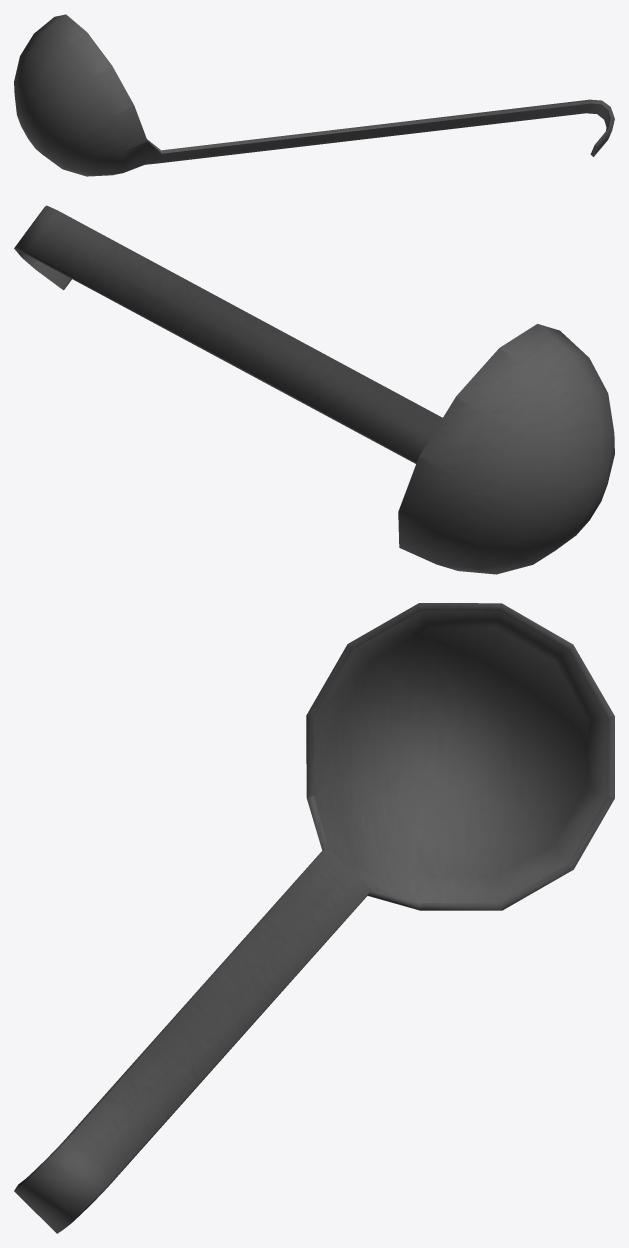
File: ladle.obj
3 views of the same model, one above another, from view 1: azimuth 30°, elevation 25°; view 2: azimuth 150°, elevation 25°; view 3: azimuth 270°, elevation 25° (orthographic). The views are drawn at different scales.
Visible parts, largest first — view 1: skin; view 2: skin; view 3: skin.
Part boxes in pixels (x1,y1,x2,y2): skin: (14, 14, 614, 176); skin: (14, 205, 614, 574); skin: (14, 603, 614, 1233).
Bounding box in the file's own units: 6.26 × 1.89 × 3.76.
Materials: 1 (1 with a texture image).
